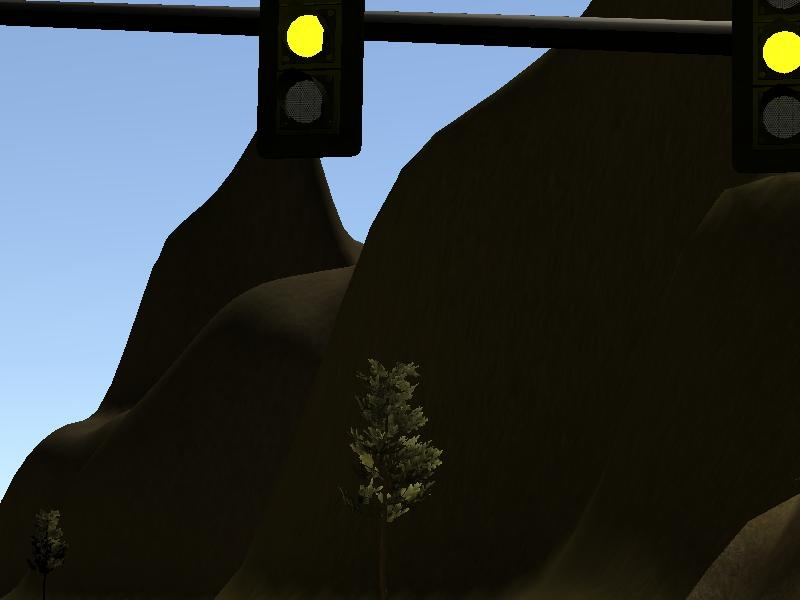yellow: (249, 2, 367, 160), (724, 4, 800, 182)
